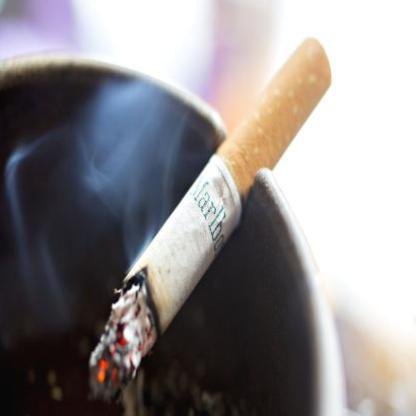cigarette: (86, 35, 330, 405)
